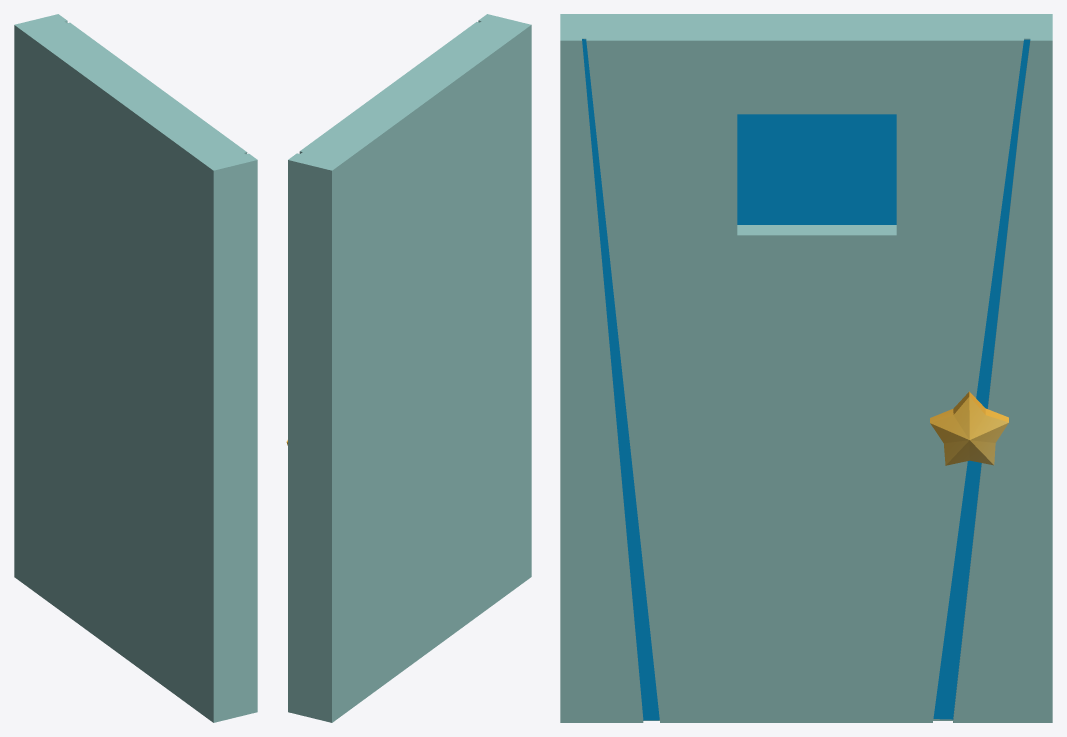
File: Building_SquareDoor_Star_White.fbx
3 renders of one model, left to right at view 1: azimuth 30°, elevation 25°; view 2: azimuth 150°, elevation 25°; view 3: azimuth 270°, elevation 25°, orthographic. The views are drawn at different scales.
Visible parts, largest first — view 1: Square Door Blue; view 2: Square Door Blue; view 3: Square Door Blue.
Part boxes in pixels (box(x1,y1,x2,y2)): Square Door Blue: box(14, 14, 257, 722); Square Door Blue: box(286, 14, 531, 722); Square Door Blue: box(560, 14, 1052, 722).
Size of the model in its own units: 18.36 by 133 by 87.3.
